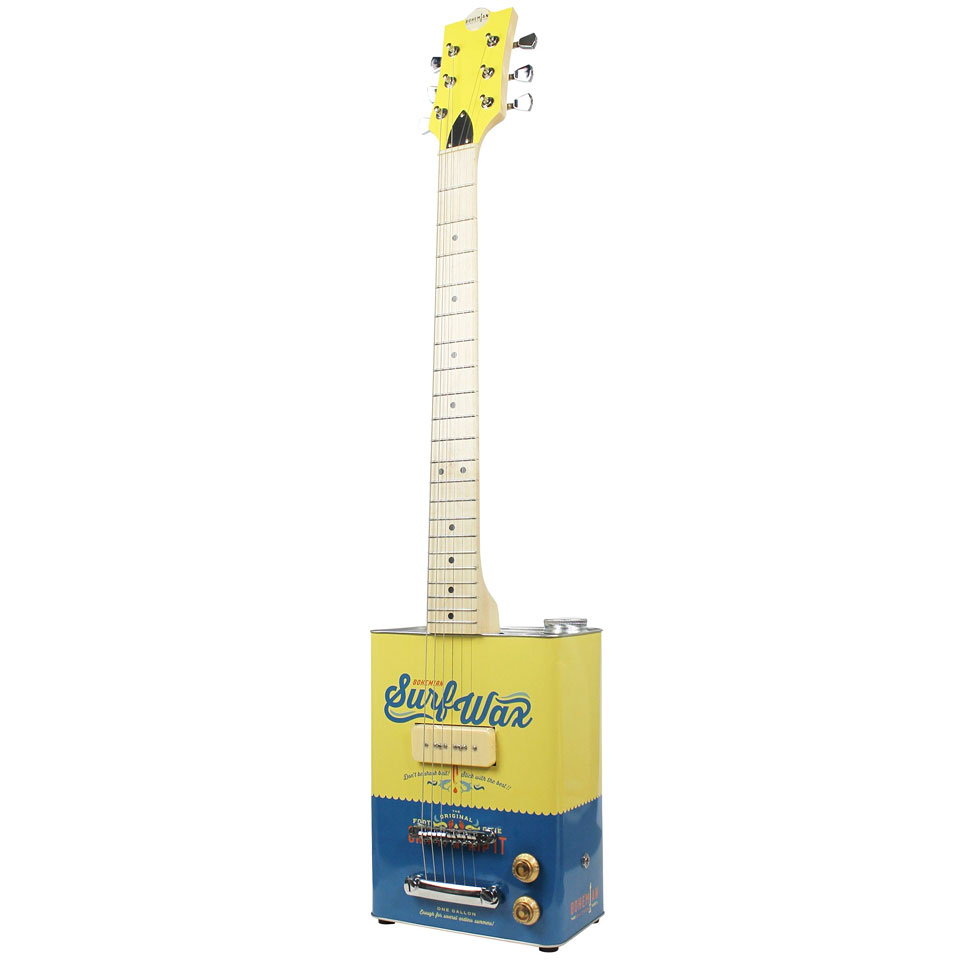ElectricGuitar: (353, 30, 630, 960)
